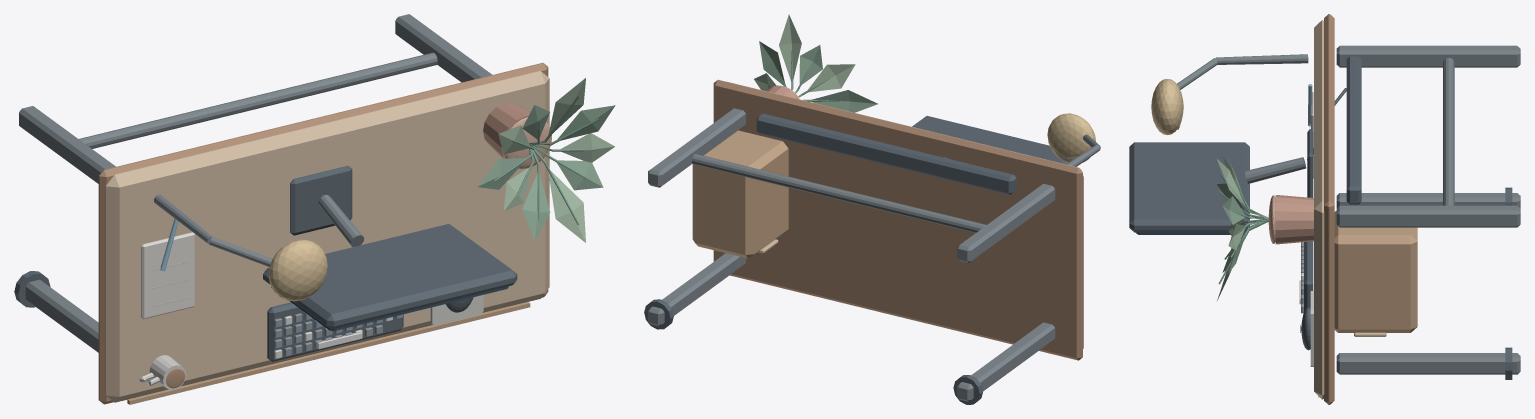
Rendered from 06_desk_only.glb.
The picture shows the model from 3 angles, left to right: view 1: azimuth 30°, elevation 25°; view 2: azimuth 150°, elevation 25°; view 3: azimuth 270°, elevation 25°; orthographic projection. The views are drawn at different scales.
Parts seen in each view (by area): view 1: 0000__desk_solid_oak_top, 0014__monitor_27_bezel, 0001__desk_beveled_oak_rim, 0009__crossbar, 0089__notebook, 0032__monitor_base, 0099__lamp_shade, 0002__desk_wood_edge_flash, 0004__powder_coated_leg, 0006__powder_coated_leg, 0034__keyboard_75percent, 0003__powder_coated_leg (+19 smaller); view 2: 0001__desk_beveled_oak_rim, 0011__drawer_shell, 0010__cable_management, 0009__crossbar, 0004__powder_coated_leg, 0006__powder_coated_leg, 0003__powder_coated_leg, 0014__monitor_27_bezel, 0005__powder_coated_leg, 0099__lamp_shade, 0110__pothos_leaf, 0116__pothos_leaf (+6 smaller); view 3: 0014__monitor_27_bezel, 0011__drawer_shell, 0001__desk_beveled_oak_rim, 0006__powder_coated_leg, 0004__powder_coated_leg, 0000__desk_solid_oak_top, 0005__powder_coated_leg, 0010__cable_management, 0003__powder_coated_leg, 0102__planter, 0009__crossbar, 0099__lamp_shade (+7 smaller).
Boxes of the visible parts, x1,y1,x2,y2 form: 0000__desk_solid_oak_top: (105, 71, 549, 402); 0014__monitor_27_bezel: (263, 224, 517, 329); 0001__desk_beveled_oak_rim: (98, 62, 548, 404); 0009__crossbar: (79, 52, 437, 148); 0089__notebook: (141, 232, 195, 319); 0032__monitor_base: (290, 165, 352, 235); 0099__lamp_shade: (268, 239, 327, 301); 0002__desk_wood_edge_flash: (127, 302, 530, 404); 0004__powder_coated_leg: (19, 106, 115, 183); 0006__powder_coated_leg: (395, 14, 492, 82); 0034__keyboard_75percent: (267, 302, 403, 361); 0003__powder_coated_leg: (25, 279, 98, 352); 0001__desk_beveled_oak_rim: (713, 79, 1082, 360); 0011__drawer_shell: (692, 130, 788, 258); 0010__cable_management: (756, 113, 1016, 194); 0009__crossbar: (692, 154, 986, 232); 0004__powder_coated_leg: (957, 183, 1055, 263); 0006__powder_coated_leg: (648, 108, 745, 187); 0003__powder_coated_leg: (957, 322, 1055, 401); 0014__monitor_27_bezel: (912, 116, 1067, 164); 0005__powder_coated_leg: (648, 253, 745, 326); 0099__lamp_shade: (1047, 113, 1095, 162); 0110__pothos_leaf: (779, 14, 801, 81); 0116__pothos_leaf: (811, 90, 877, 112); 0014__monitor_27_bezel: (1129, 142, 1249, 232); 0011__drawer_shell: (1334, 211, 1417, 332); 0001__desk_beveled_oak_rim: (1324, 14, 1334, 404); 0006__powder_coated_leg: (1336, 205, 1520, 227); 0004__powder_coated_leg: (1336, 45, 1520, 67); 0000__desk_solid_oak_top: (1314, 20, 1324, 399); 0005__powder_coated_leg: (1336, 353, 1520, 374); 0010__cable_management: (1346, 56, 1361, 204); 0003__powder_coated_leg: (1336, 193, 1520, 208); 0102__planter: (1275, 195, 1313, 244); 0009__crossbar: (1443, 57, 1454, 205); 0099__lamp_shade: (1151, 79, 1183, 134).
Bounding box in the file's own units: 1.7 × 0.9708 × 1.45.
